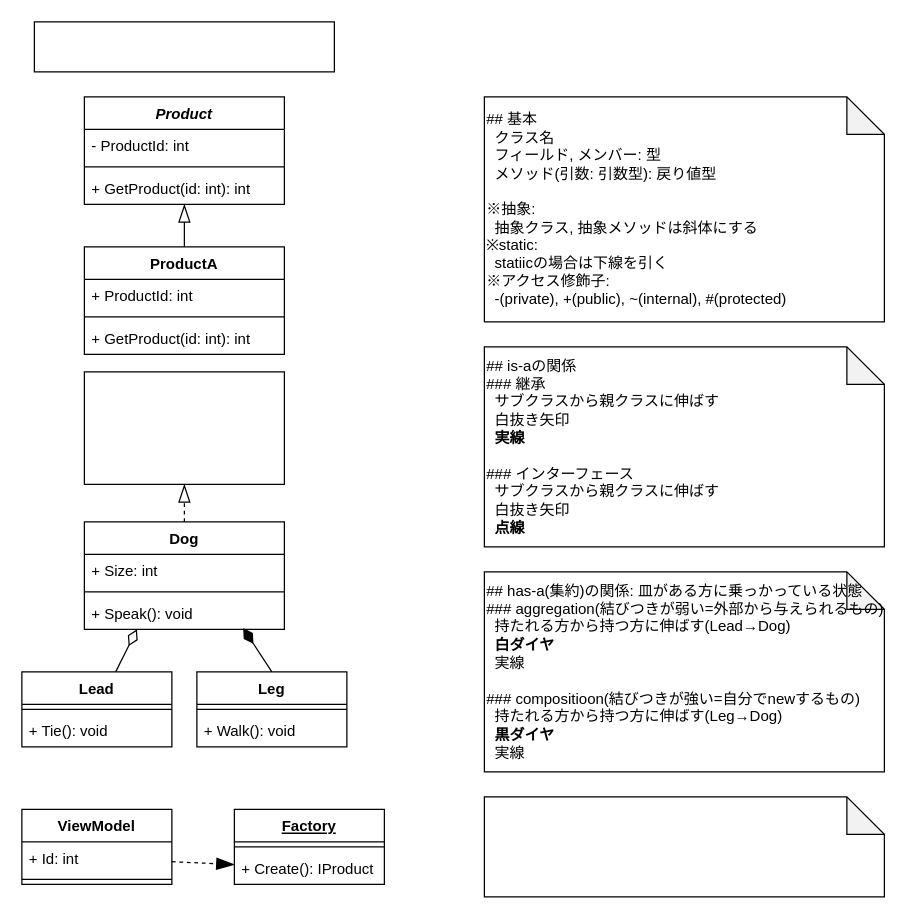
The diagram is 906 pixels wide and 919 high, and some of its shapes have lost their labels. The shapes that lost their labels are listed below. From the top down, each one's centre as x and y in pixels, then its label:
At point (183, 46): "# クラス図".
At point (183, 427): "<<Interface>> IAnimal + Size: int + Speak(): void".
At point (683, 846): "## use-a(依存)の関係: 一時的な使用 使う側から使われる側に伸ばす 通常矢印 破線".
